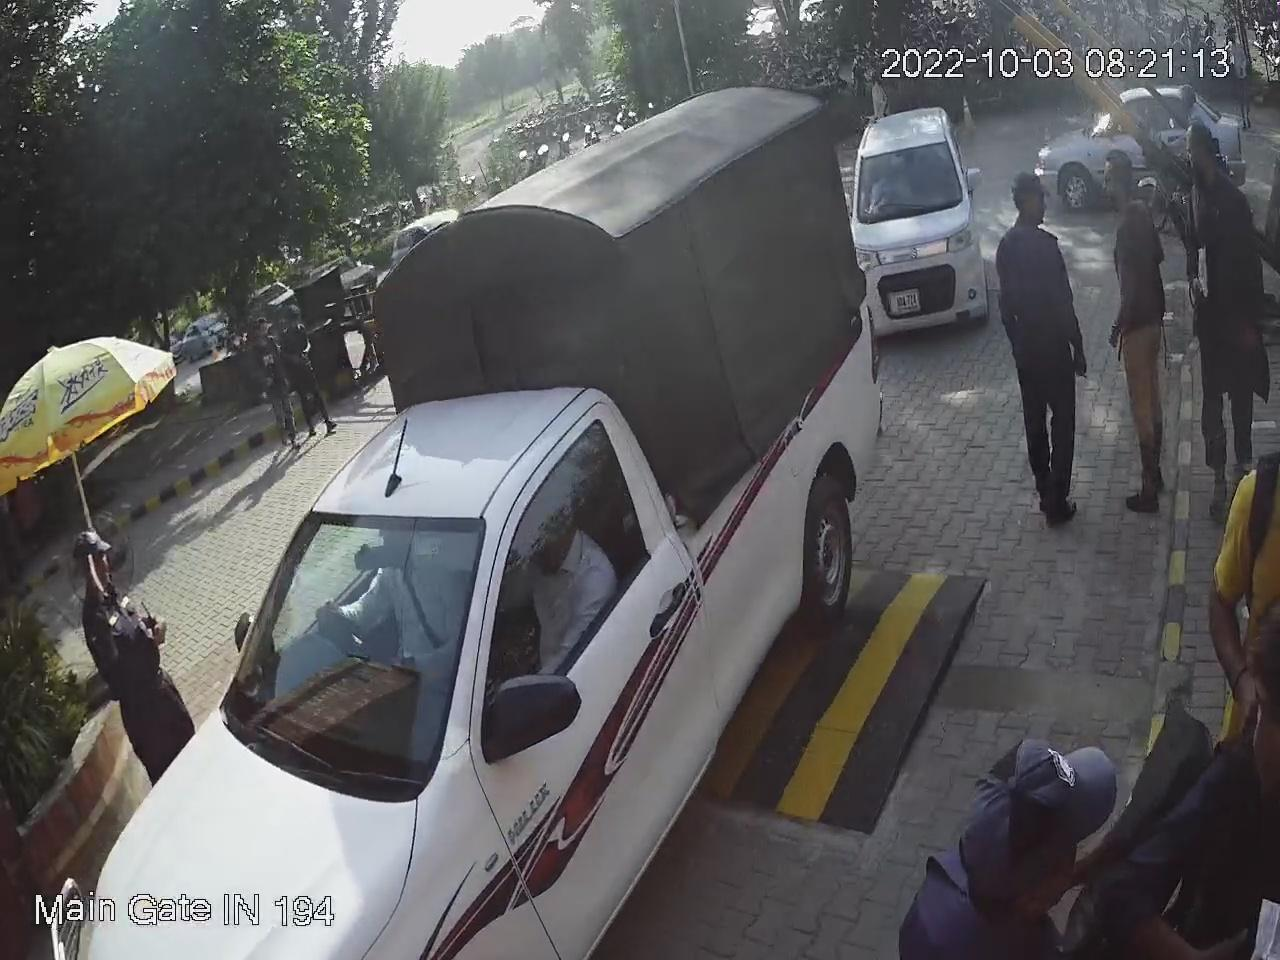windshield: (206, 505, 493, 823), (853, 135, 971, 225)
